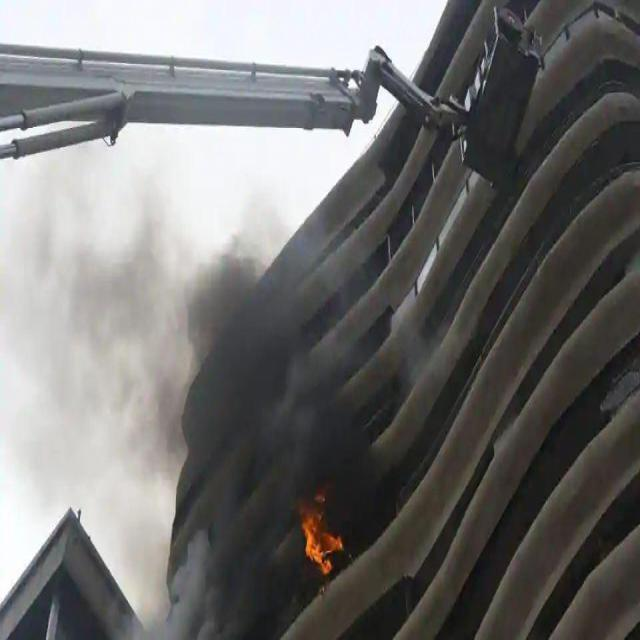Fire: (282, 480, 358, 583)
